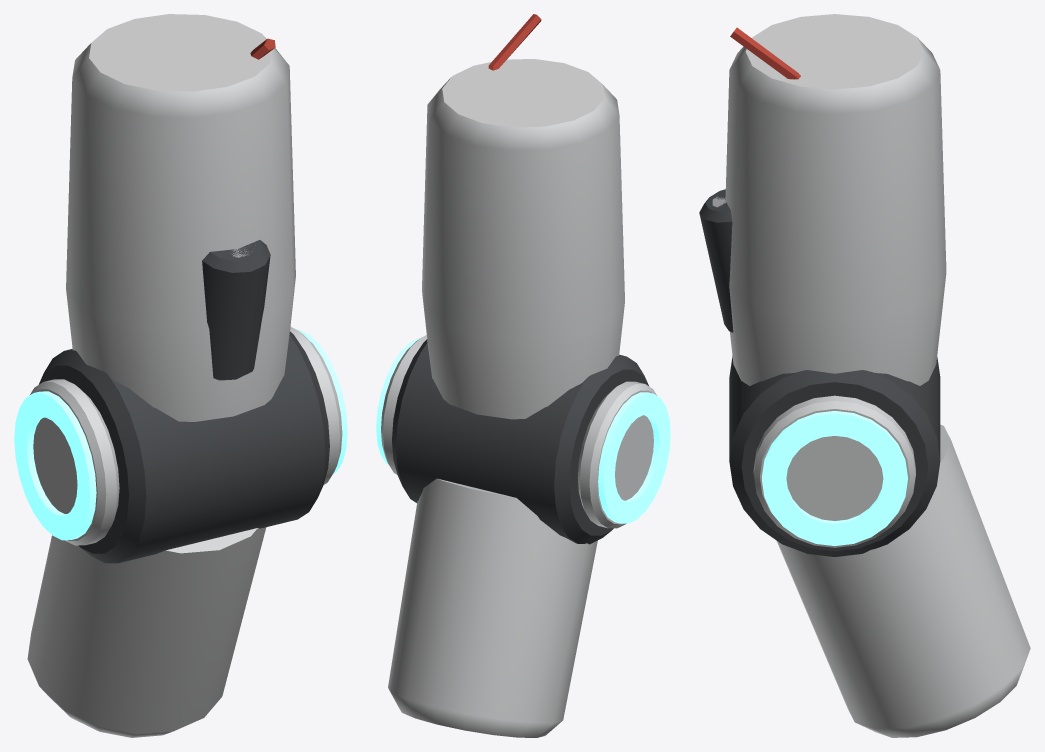
Rendered from walker_leg_actuator.glb.
3 renders of one model, left to right at view 1: azimuth 30°, elevation 25°; view 2: azimuth 150°, elevation 25°; view 3: azimuth 270°, elevation 25°, orthographic. The views are drawn at different scales.
Visible parts, largest first — view 1: body; view 2: body; view 3: body.
Boxes of the visible parts, box(x1,y1,x2,y2) form: body: box(14, 14, 347, 737); body: box(376, 14, 670, 737); body: box(699, 14, 1030, 737).
Size of the model in its own units: 0.141 by 0.3864 by 0.1634.
